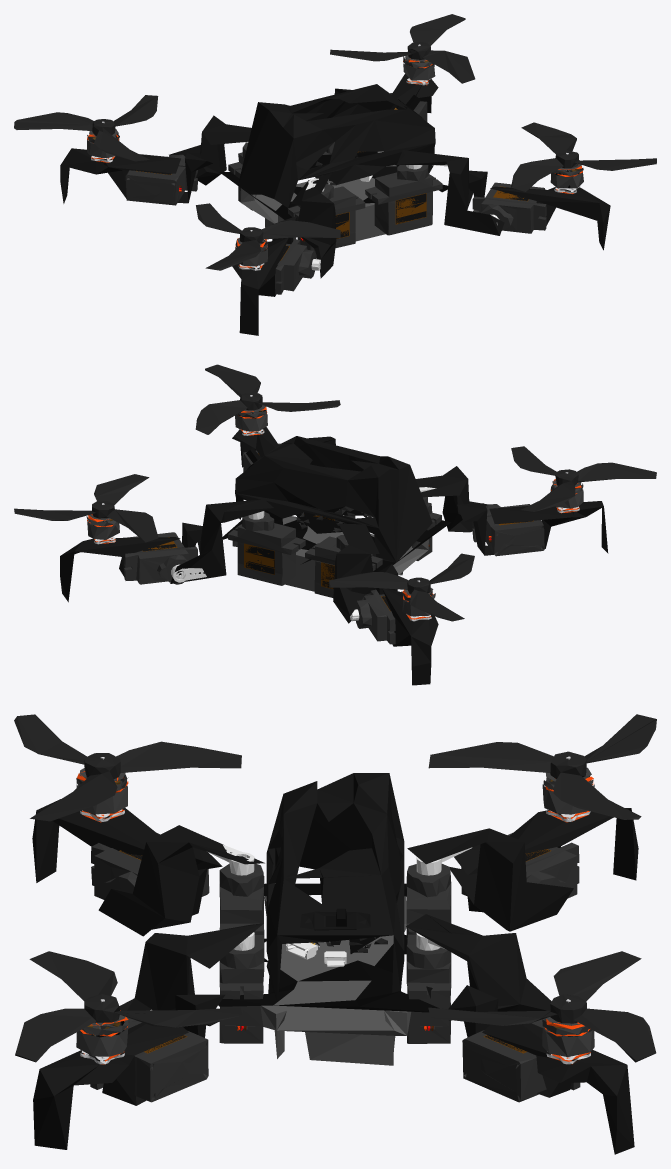
Rendered from model-lite.lod1.glb.
3 renders of one model, top to bottom at view 1: azimuth 30°, elevation 25°; view 2: azimuth 150°, elevation 25°; view 3: azimuth 270°, elevation 25°, orthographic. The views are drawn at different scales.
Visible parts, largest first — view 1: root_base, SG90_-_Micro_Servo_9g_-_Tower_Pro.1_Pea_1, 40mm_1mm_prop_1, WYanHua-Motor_Micro_1104_Brushless_1-2S_4300KV_v1_1; view 2: root_base, SG90_-_Micro_Servo_9g_-_Tower_Pro.1_Pea_1, 40mm_1mm_prop_1, WYanHua-Motor_Micro_1104_Brushless_1-2S_4300KV_v1_1; view 3: root_base, 40mm_1mm_prop_1, SG90_-_Micro_Servo_9g_-_Tower_Pro.1_Pea_1, WYanHua-Motor_Micro_1104_Brushless_1-2S_4300KV_v1_1, SPDT_Mini_Slide_Switch_2.
Boxes of the visible parts, bbox=[...] form: root_base: bbox=[60, 73, 610, 335]; SG90_-_Micro_Servo_9g_-_Tower_Pro.1_Pea_1: bbox=[125, 93, 546, 294]; 40mm_1mm_prop_1: bbox=[14, 14, 656, 270]; WYanHua-Motor_Micro_1104_Brushless_1-2S_4300KV_v1_1: bbox=[87, 44, 583, 270]; root_base: bbox=[60, 426, 608, 685]; SG90_-_Micro_Servo_9g_-_Tower_Pro.1_Pea_1: bbox=[124, 443, 544, 644]; 40mm_1mm_prop_1: bbox=[14, 364, 656, 621]; WYanHua-Motor_Micro_1104_Brushless_1-2S_4300KV_v1_1: bbox=[86, 395, 583, 621]; root_base: bbox=[32, 773, 638, 1154]; 40mm_1mm_prop_1: bbox=[14, 714, 656, 1062]; SG90_-_Micro_Servo_9g_-_Tower_Pro.1_Pea_1: bbox=[90, 833, 580, 1102]; WYanHua-Motor_Micro_1104_Brushless_1-2S_4300KV_v1_1: bbox=[76, 756, 594, 1064]; SPDT_Mini_Slide_Switch_2: bbox=[300, 908, 370, 930].
Size of the model in its own units: 0.2229 by 0.0612 by 0.1747.
